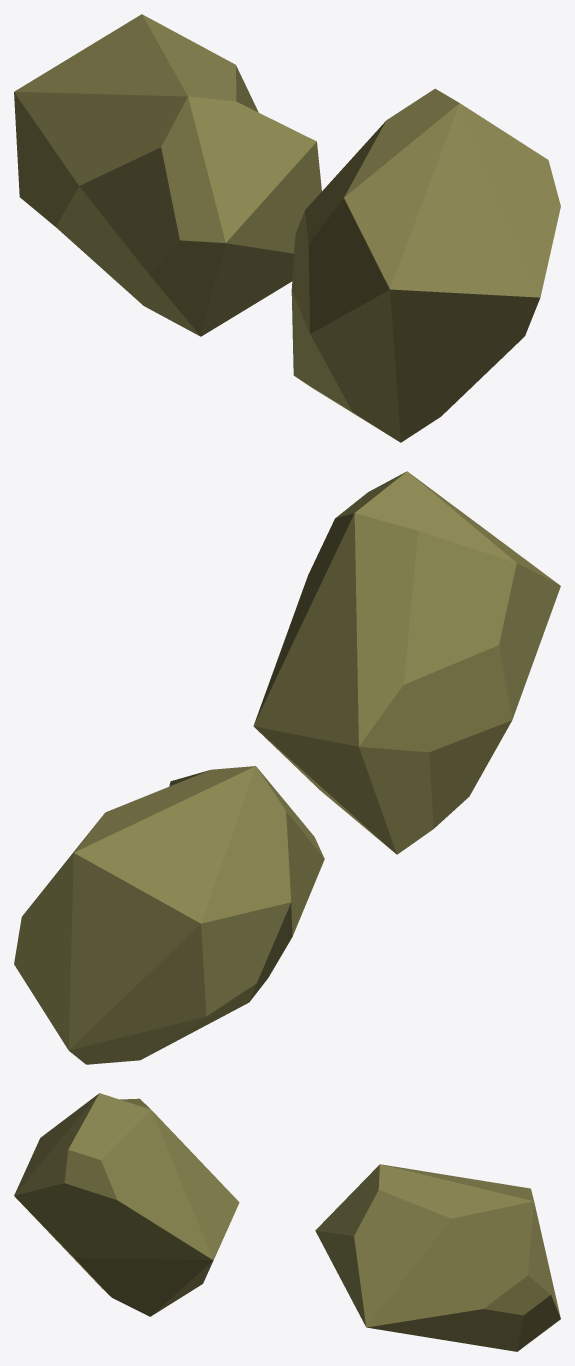
The model's file is roche.fbx.
The picture shows the model from 3 angles, top to bottom: view 1: azimuth 30°, elevation 25°; view 2: azimuth 150°, elevation 25°; view 3: azimuth 270°, elevation 25°; orthographic projection. The views are drawn at different scales.
Visible parts, largest first — view 1: Icosphère, Icosphère.001; view 2: Icosphère, Icosphère.001; view 3: Icosphère.001, Icosphère.
Boxes of the visible parts, x1=… form: Icosphère: x1=291, y1=88, x2=560, y2=442; Icosphère.001: x1=14, y1=14, x2=321, y2=336; Icosphère: x1=253, y1=471, x2=560, y2=854; Icosphère.001: x1=14, y1=766, x2=324, y2=1064; Icosphère.001: x1=315, y1=1164, x2=560, y2=1351; Icosphère: x1=14, y1=1093, x2=239, y2=1316.
Size of the model in its own units: 168 by 285 by 557.
